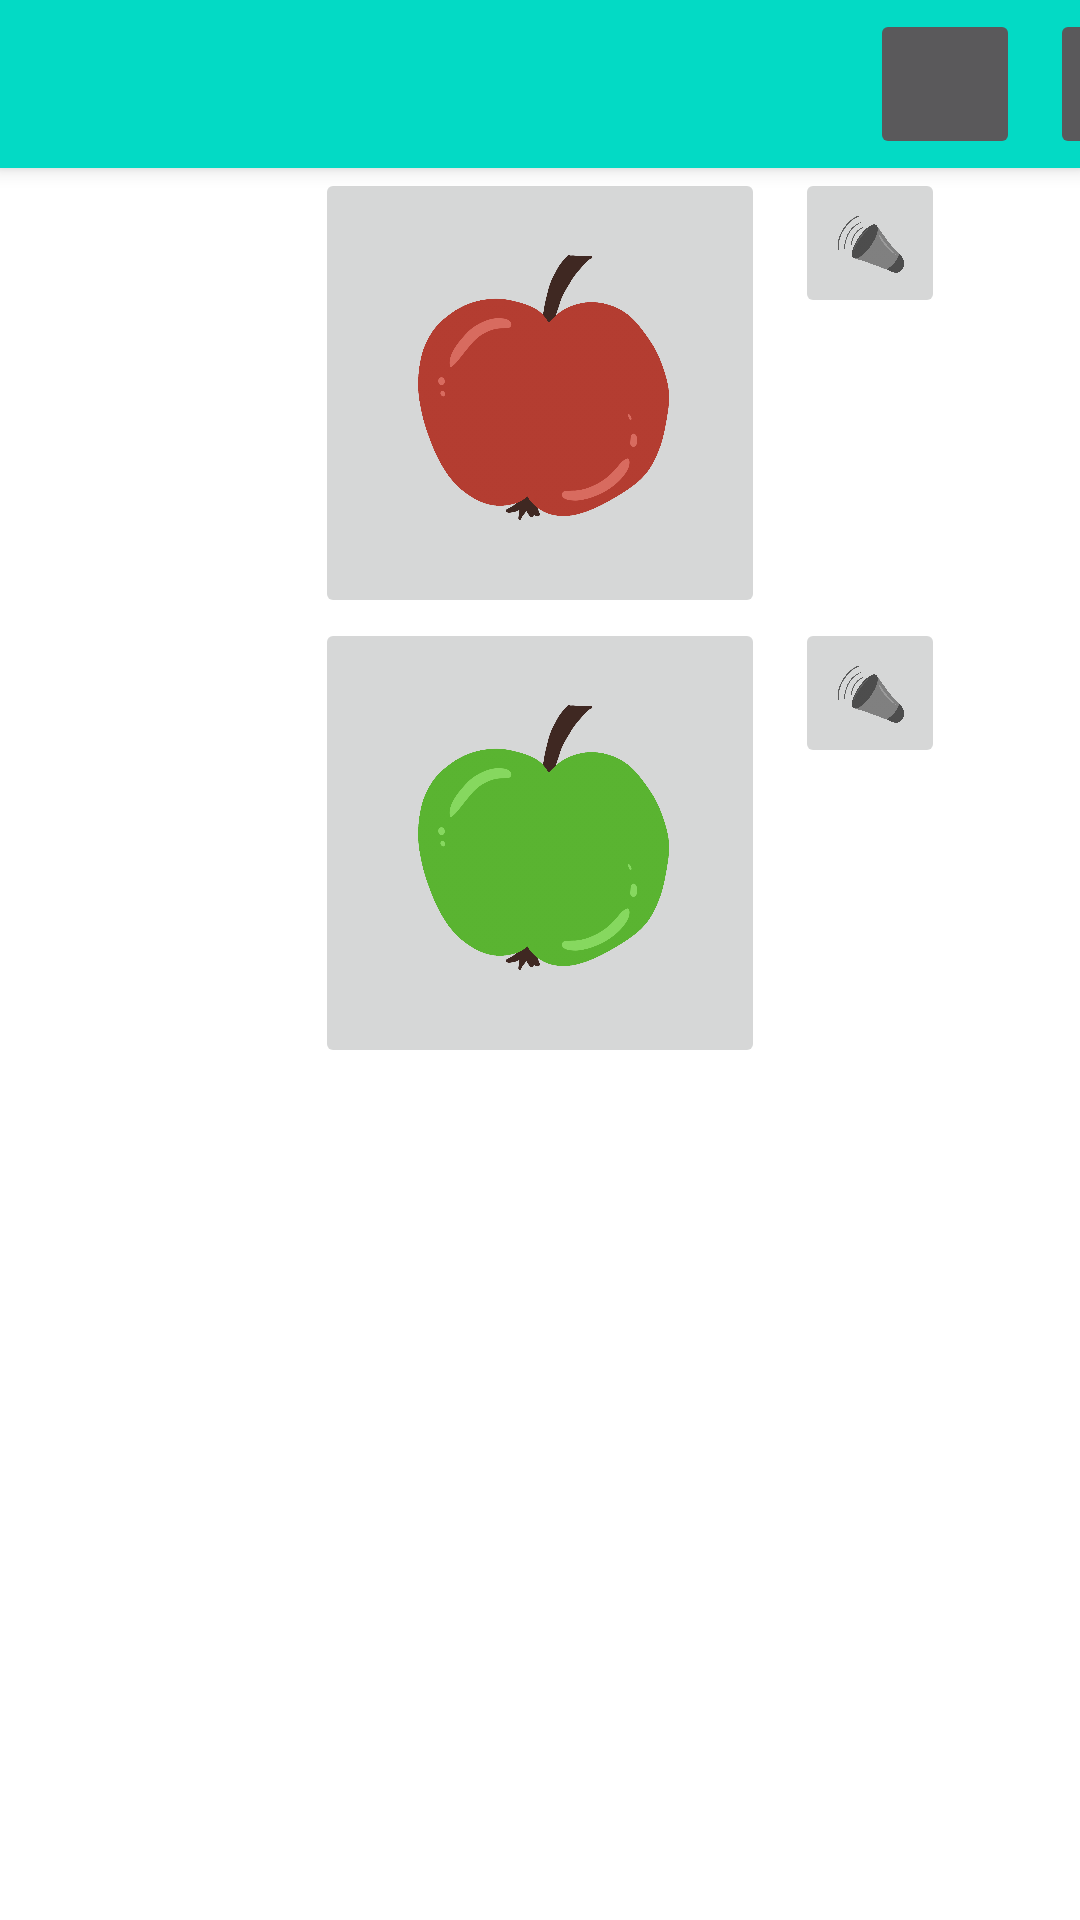

Where icons sit on this 1080×1920 app screen, as (x1,y1,x2,y2):
sound: (807,186,933,300), (807,636,933,750)
